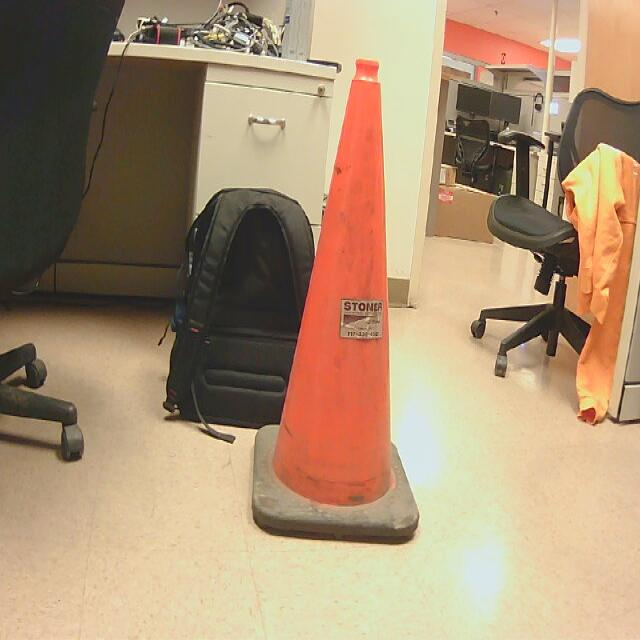traffic cone: (252, 60, 421, 550)
